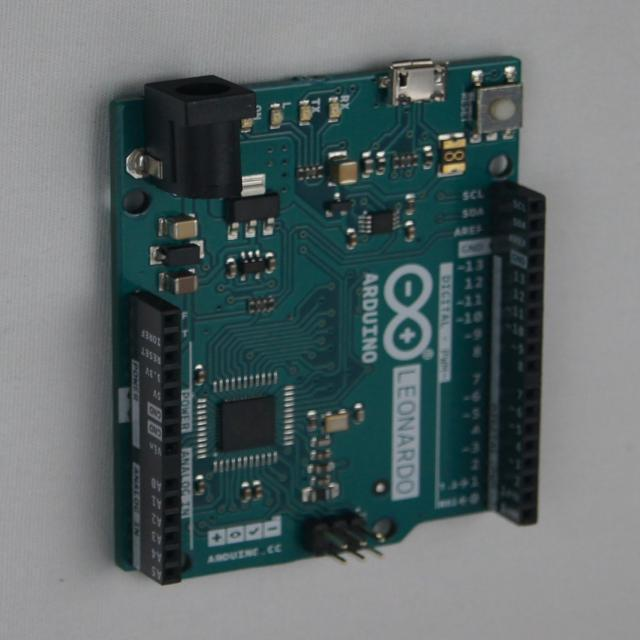Arduino-leonardo: (111, 57, 545, 585)
